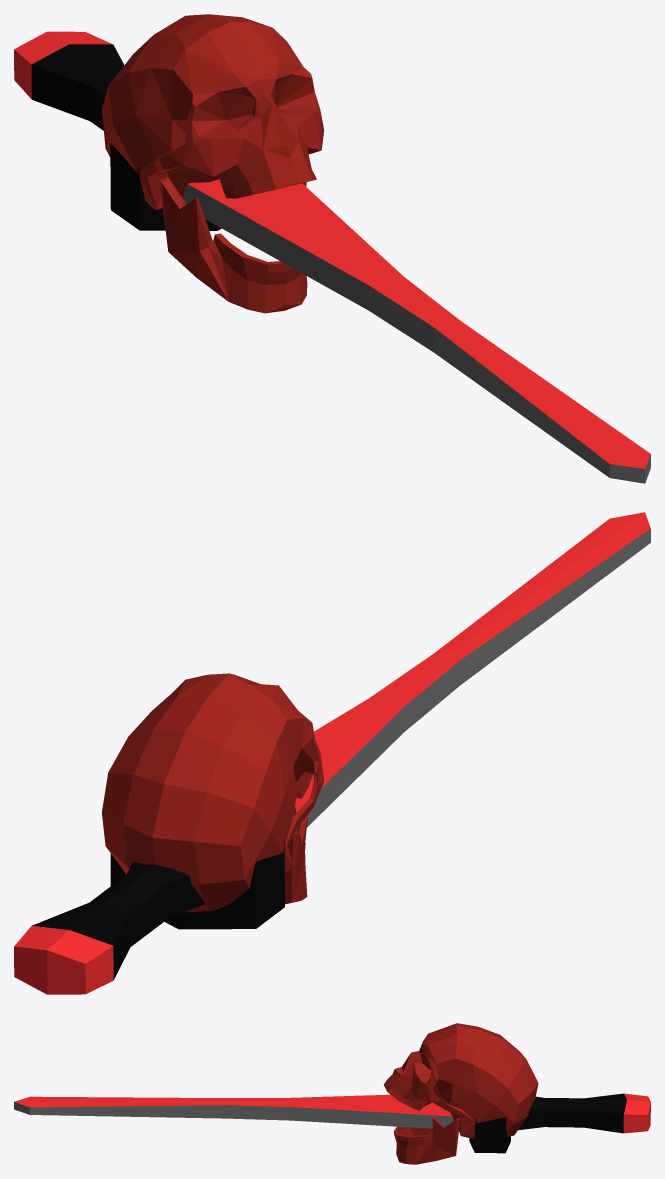
File: cursedSword.fbx
The picture shows the model from 3 angles, top to bottom: view 1: azimuth 30°, elevation 25°; view 2: azimuth 150°, elevation 25°; view 3: azimuth 270°, elevation 25°; orthographic projection. The views are drawn at different scales.
Parts seen in each view (by area): view 1: Cube.002, Cube, Cube.001; view 2: Cube.002, Cube, Cube.001; view 3: Cube.002, Cube, Cube.001.
Part boxes in pixels (x1=…): Cube.002: x1=14, y1=31, x2=650, y2=483; Cube: x1=102, y1=14, x2=324, y2=209; Cube.001: x1=159, y1=177, x2=307, y2=313; Cube.002: x1=14, y1=512, x2=650, y2=994; Cube: x1=102, y1=673, x2=323, y2=912; Cube.001: x1=284, y1=816, x2=307, y2=904; Cube.002: x1=14, y1=1093, x2=650, y2=1153; Cube: x1=384, y1=1023, x2=538, y2=1138; Cube.001: x1=393, y1=1117, x2=460, y2=1164.
Bounding box in the file's own units: 136 × 206 × 896.
